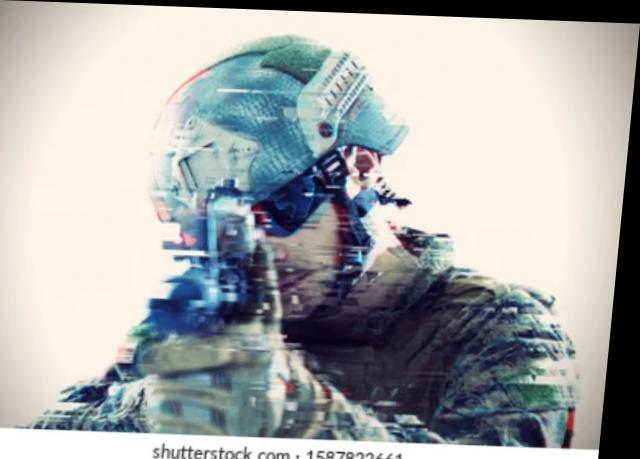other: (38, 26, 606, 439)
